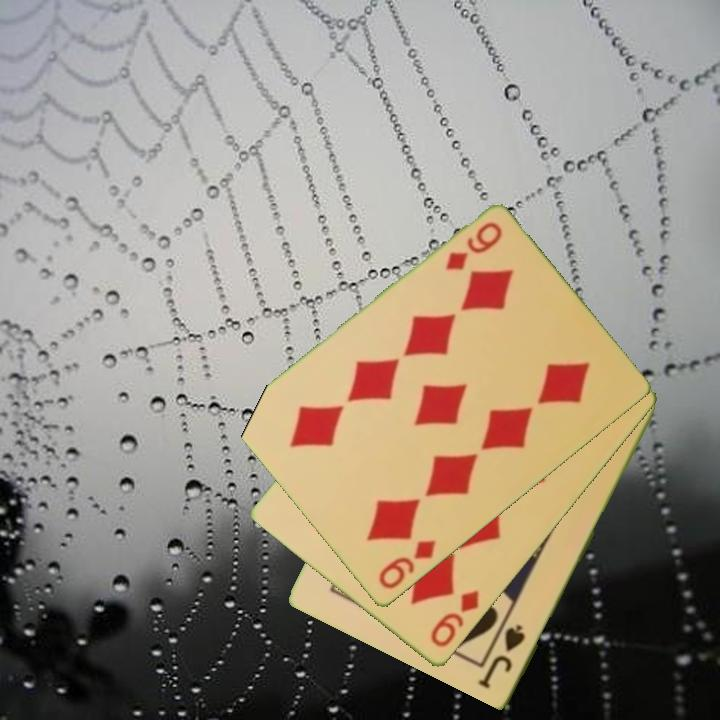9d: (375, 536, 440, 593), (427, 587, 483, 651), (441, 219, 506, 274)
Js: (477, 621, 529, 692)
